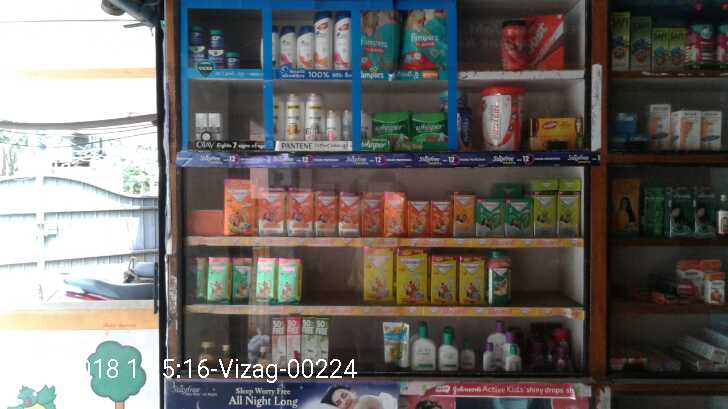vicks: (207, 46, 225, 67), (209, 26, 226, 46), (187, 46, 207, 62), (191, 26, 207, 45), (225, 52, 240, 67)
